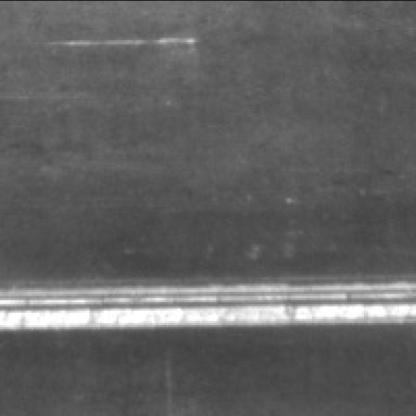scratches: (0, 266, 412, 331)
